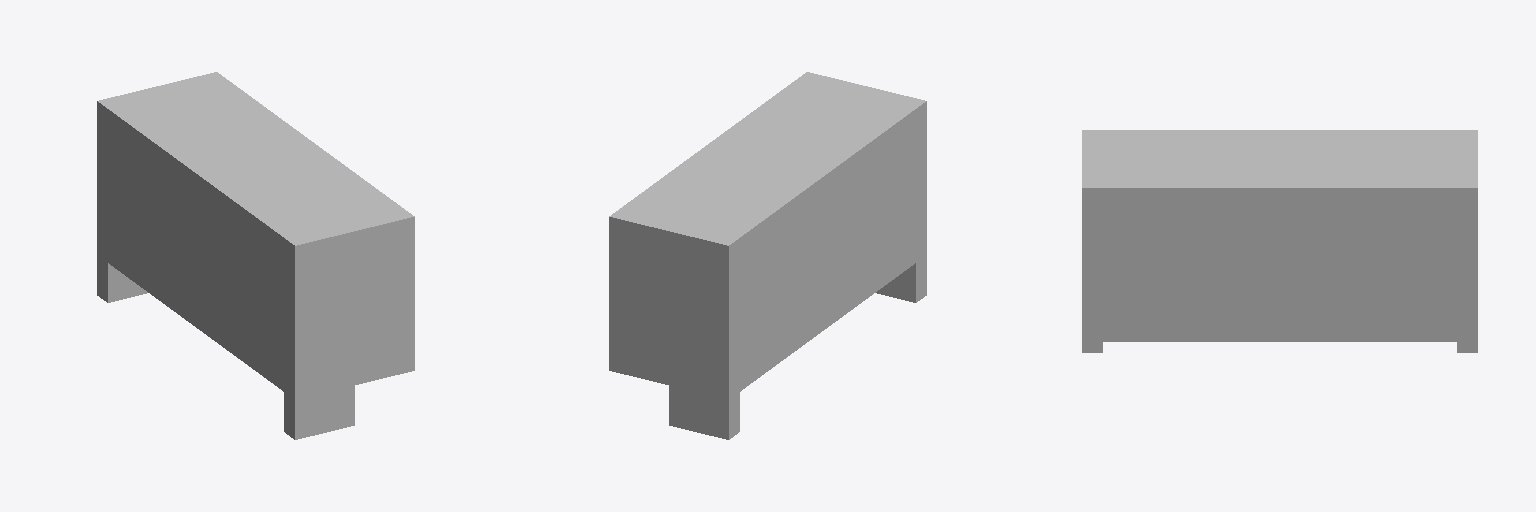
The model's file is front_car.obj.
3 views of the same model, side by side, from view 1: azimuth 30°, elevation 25°; view 2: azimuth 150°, elevation 25°; view 3: azimuth 270°, elevation 25° (orthographic).
Visible parts, largest first — view 1: Car; view 2: Car; view 3: Car.
Part boxes in pixels (x1,y1,x2,y2): Car: (97, 72, 414, 439); Car: (609, 72, 926, 439); Car: (1082, 130, 1477, 352).
Bounding box in the file's own units: 0.699 × 1.08 × 2.